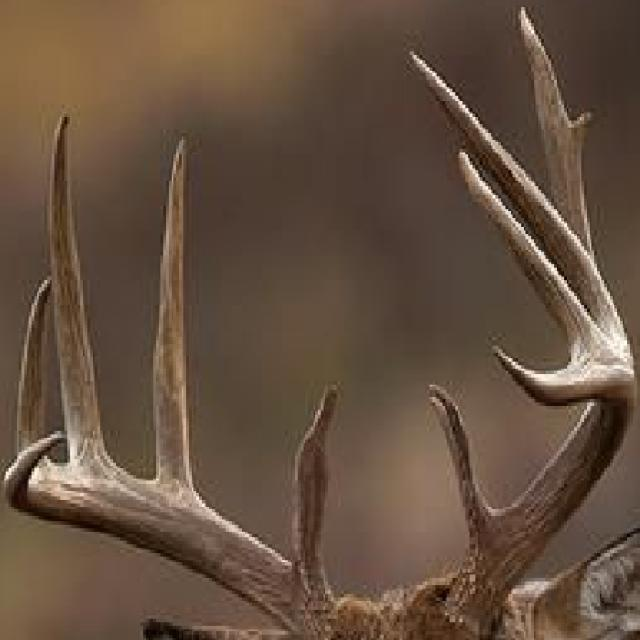L-F: (443, 338, 640, 639)
L-G1: (422, 382, 494, 564)
L-G3: (403, 43, 631, 350)
L-G4: (452, 144, 598, 362)
R-G1: (289, 378, 346, 589)
R-G2: (148, 127, 209, 503)
R-G3: (48, 107, 123, 475)
